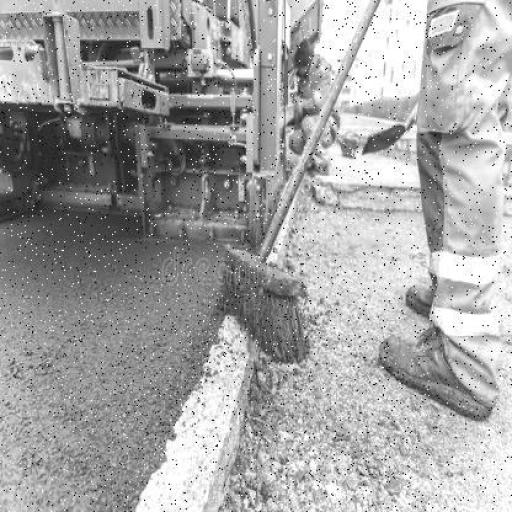safety_shoe: (380, 326, 495, 422)
